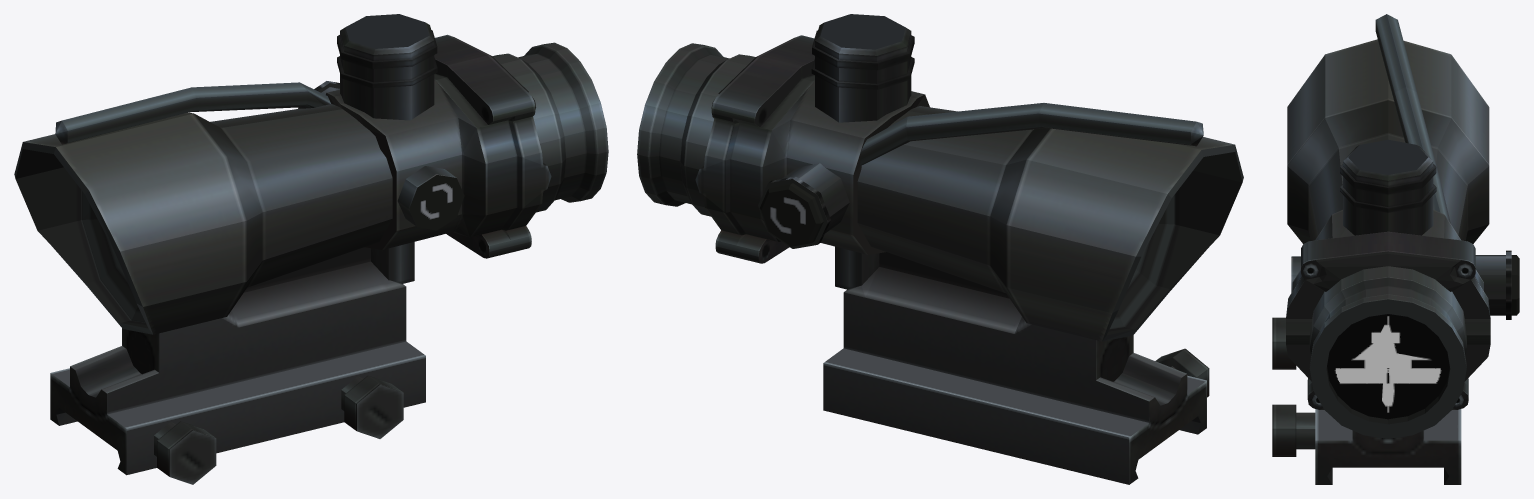
The model's file is Scopes_4xACOG_Base_2_Mod.FBX.
3 views of the same model, side by side, from view 1: azimuth 30°, elevation 25°; view 2: azimuth 150°, elevation 25°; view 3: azimuth 270°, elevation 25° (orthographic). The views are drawn at different scales.
Parts seen in each view (by area): view 1: Scopes_4xACOG_Base_2_Mod; view 2: Scopes_4xACOG_Base_2_Mod; view 3: Scopes_4xACOG_Base_2_Mod, Lens_4xACOG_Base_2_Mod_1.
Part boxes in pixels (box(x1,y1,x2,y2)): Scopes_4xACOG_Base_2_Mod: box(14, 14, 608, 484); Scopes_4xACOG_Base_2_Mod: box(637, 14, 1243, 484); Scopes_4xACOG_Base_2_Mod: box(1272, 14, 1519, 484); Lens_4xACOG_Base_2_Mod_1: box(1327, 314, 1449, 419).
Bounding box in the file's own units: 21.16 × 13.65 × 9.24.
